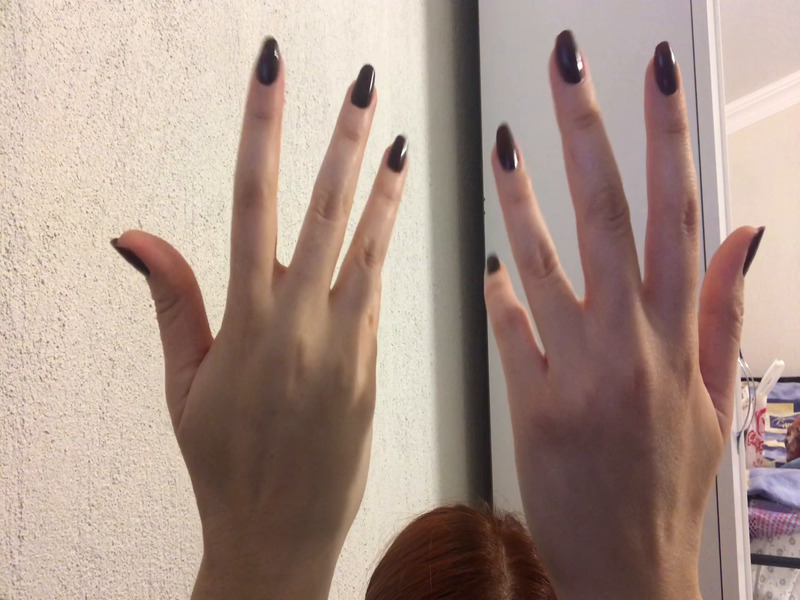hand: (477, 18, 767, 558), (109, 31, 413, 530)
